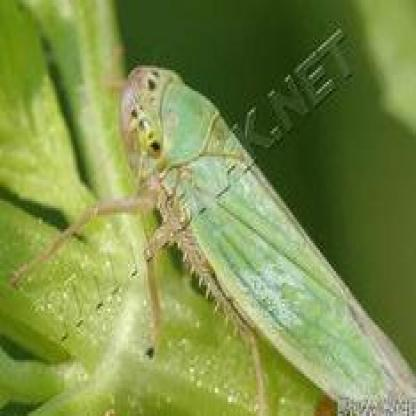Green-Leafhopper: (43, 57, 416, 416)
